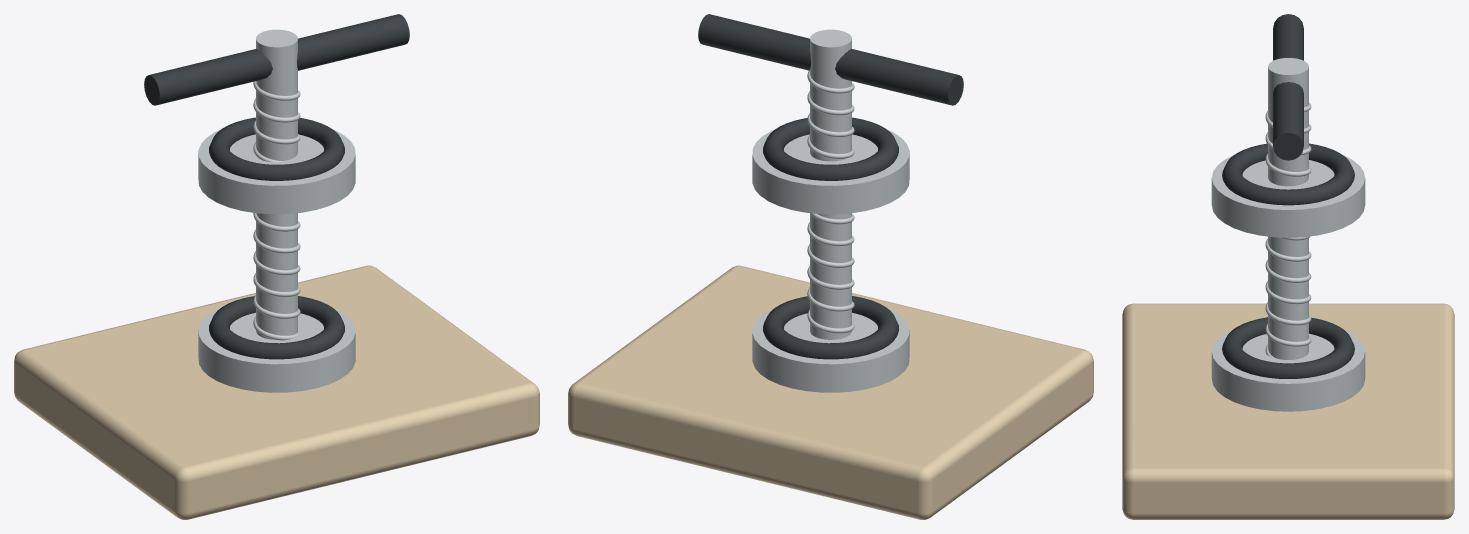
Rendered from bicycle-shop-and-repair-cafe-bearing-press-9ef52b8c__32410.glb.
3 renders of one model, left to right at view 1: azimuth 30°, elevation 25°; view 2: azimuth 150°, elevation 25°; view 3: azimuth 270°, elevation 25°, orthographic. The views are drawn at different scales.
Visible parts, largest first — view 1: bearing-press; view 2: bearing-press; view 3: bearing-press.
Part boxes in pixels (x1,y1,x2,y2): bearing-press: (14,14,539,519); bearing-press: (568,14,1093,519); bearing-press: (1122,14,1454,519).
Bounding box in the file's own units: 0.16 × 0.16 × 0.13.
